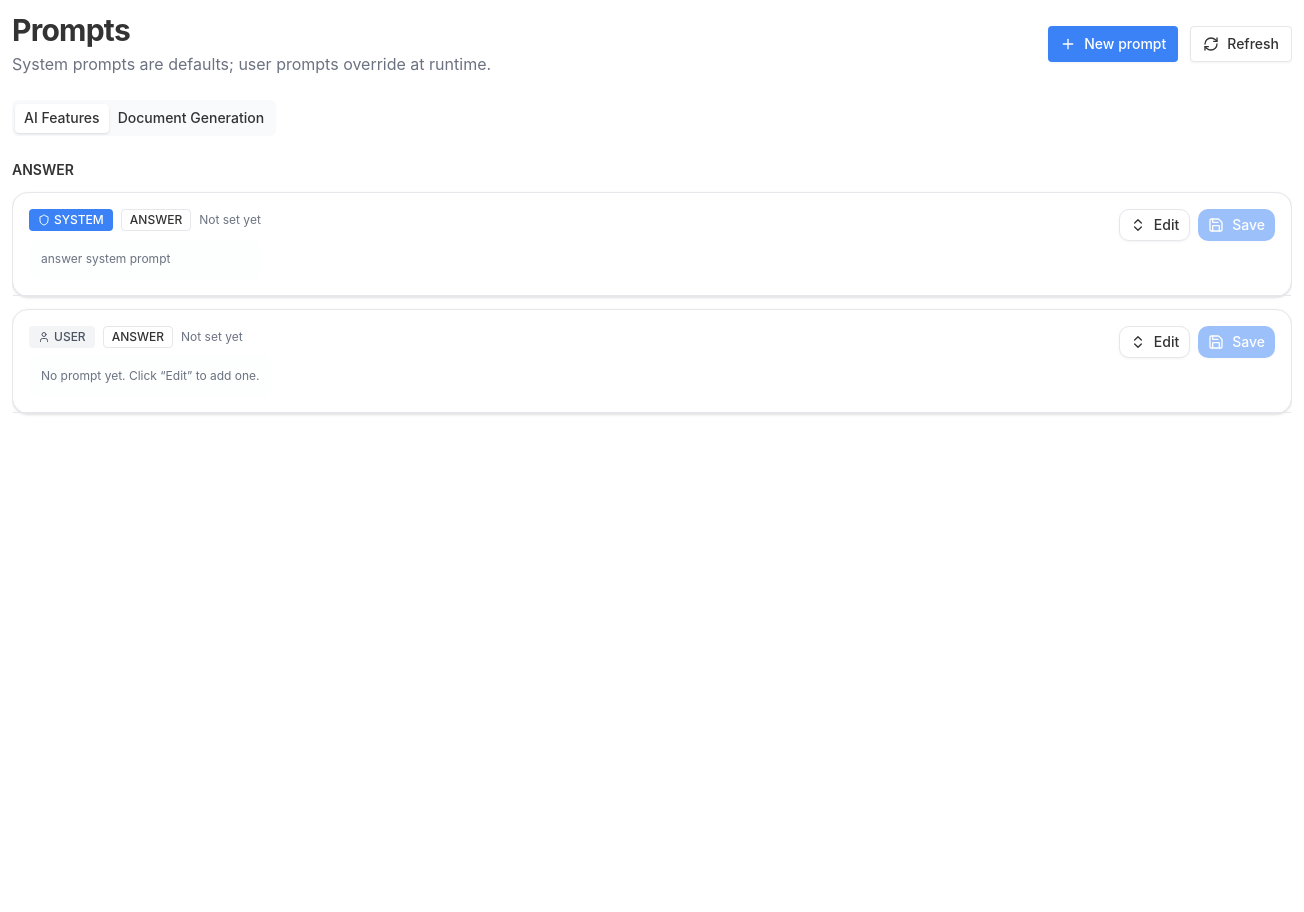
Test: PromptsManager › switches to the Document Generation tab on click
This screenshot has width=1304, height=912.
Click the tab "Document Generation". click: x=191, y=118
box: [109,104,273,132]
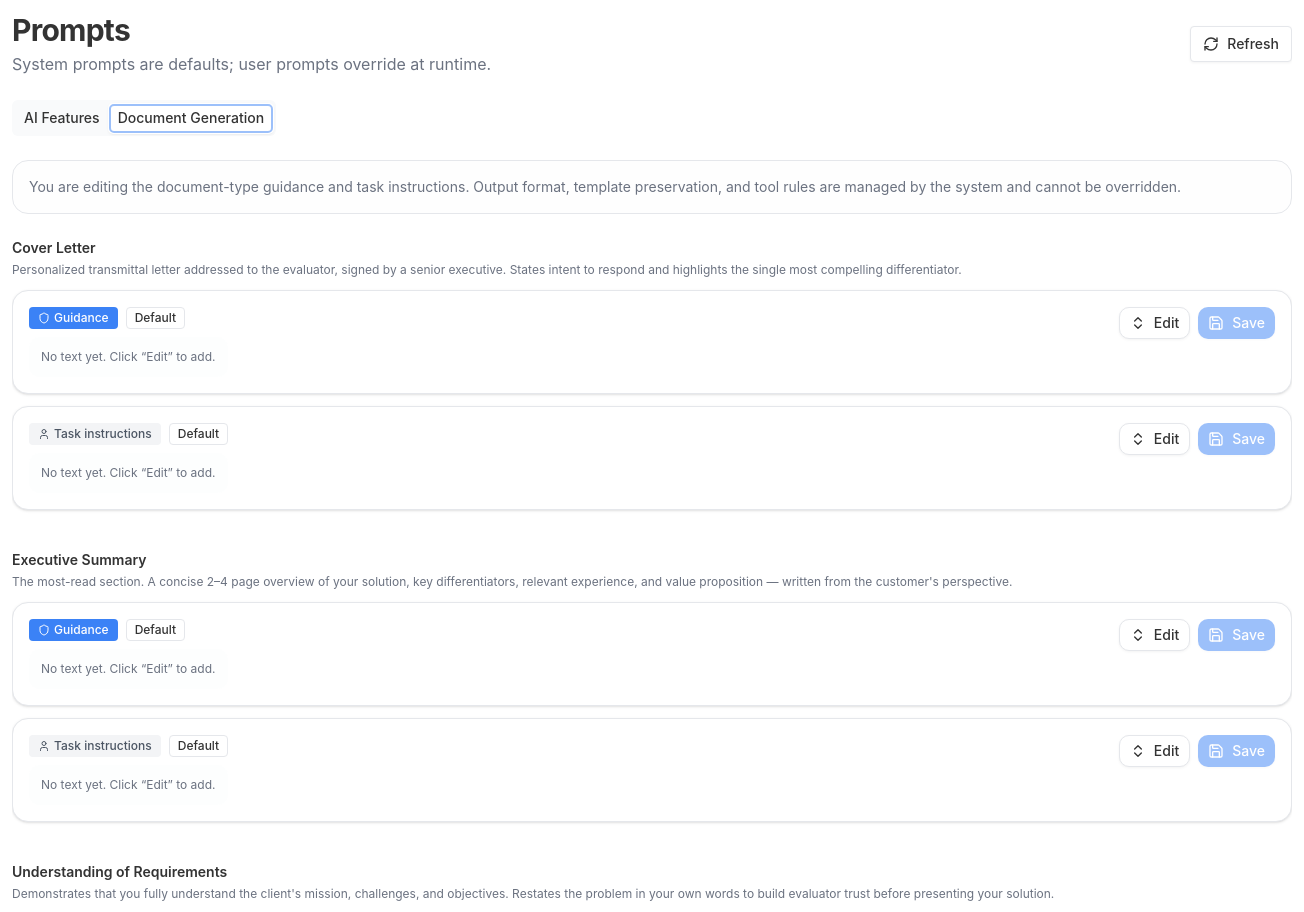
Check: the text "You are editing the document-type guidance" is shown, box [29,178,1181,195]
